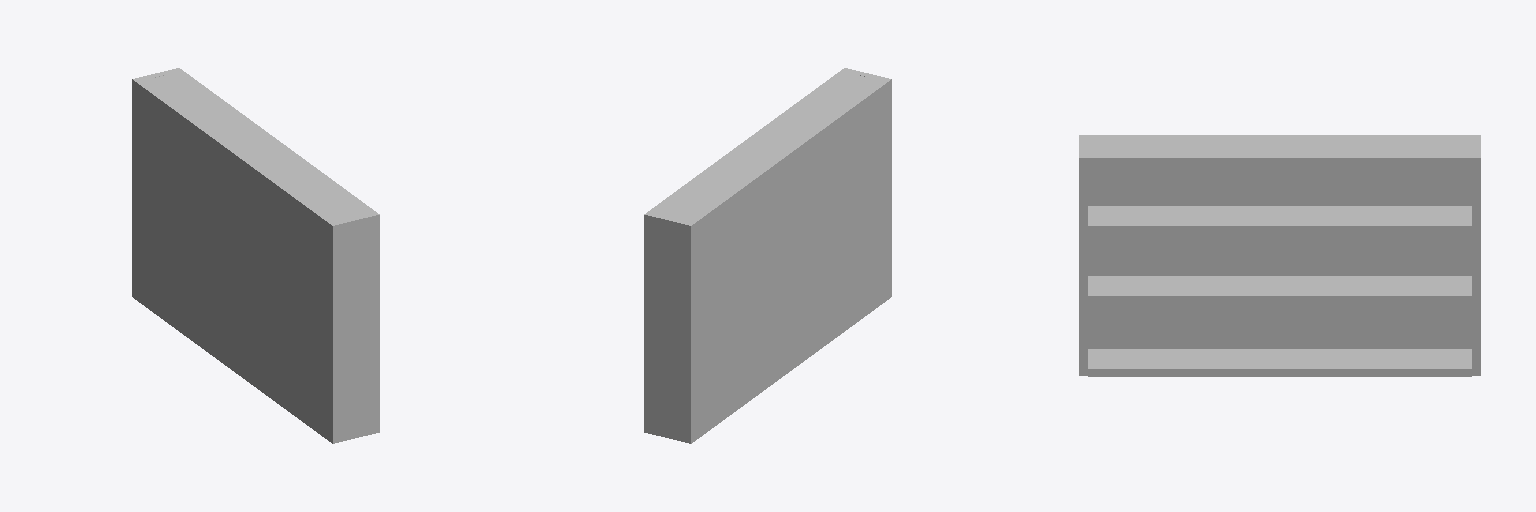
Rendered from Shelves.obj.
3 renders of one model, left to right at view 1: azimuth 30°, elevation 25°; view 2: azimuth 150°, elevation 25°; view 3: azimuth 270°, elevation 25°, orthographic.
Parts seen in each view (by area): view 1: pCube1, pCube5, pCube3, pCube4; view 2: pCube1, pCube4, pCube3, pCube5; view 3: pCube1, pCube3, pCube2, pCube6, pCube7, pCube4, pCube5.
Boxes of the visible parts, <box> form: pCube1: <box>136,81,333,441</box>; pCube5: <box>329,212,379,443</box>; pCube3: <box>143,71,375,221</box>; pCube4: <box>132,68,182,299</box>; pCube1: <box>690,81,888,440</box>; pCube4: <box>644,212,694,443</box>; pCube3: <box>648,71,880,221</box>; pCube5: <box>841,68,891,298</box>; pCube1: <box>1088,135,1471,348</box>; pCube3: <box>1085,138,1471,165</box>; pCube2: <box>1088,349,1471,376</box>; pCube6: <box>1088,206,1471,233</box>; pCube7: <box>1088,276,1471,303</box>; pCube4: <box>1472,135,1480,375</box>; pCube5: <box>1079,135,1087,375</box>.
Bounding box in the file's own units: 1.12 × 4.98 × 8.29.